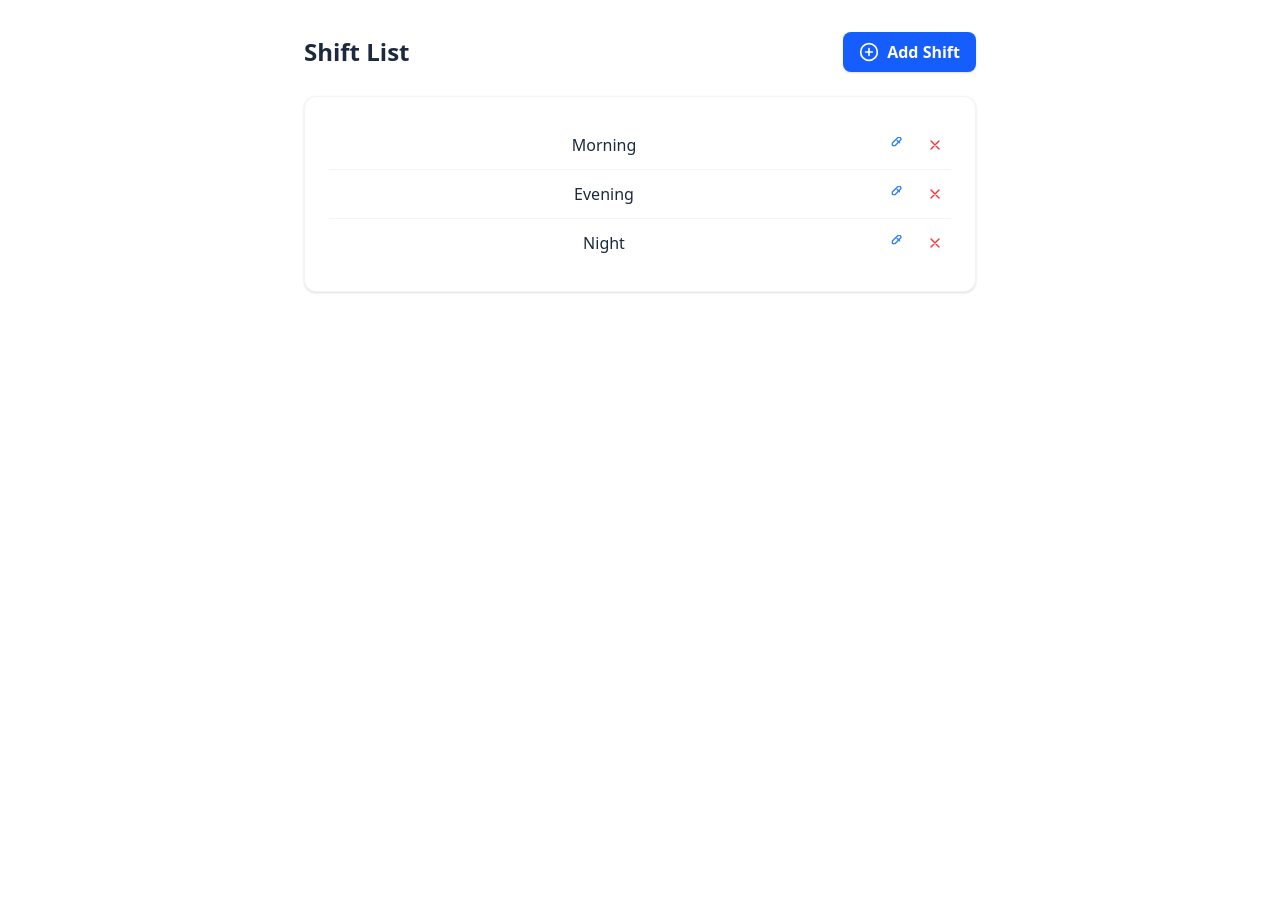
it: ShiftSelector › should open edit modal when edit button is clicked
Click the button titled "Edit shift" in the row of "Morning" at (895, 145), box top-left (879, 133), bottom-right (911, 157)
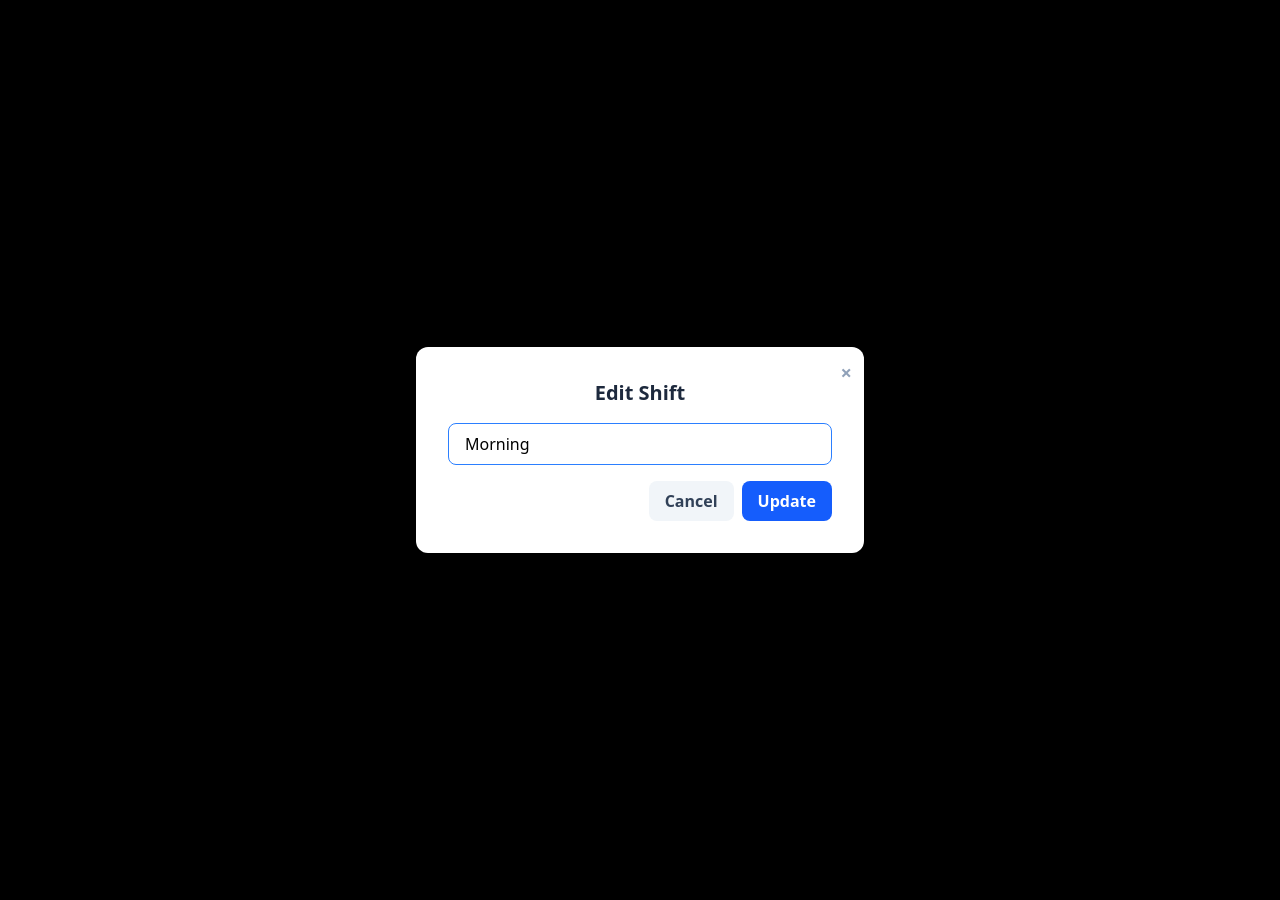
Check: the heading "Edit Shift" is shown, box top-left (595, 379), bottom-right (685, 406)
Check: the field showing "Morning" is shown, box top-left (448, 423), bottom-right (832, 465)
Check: the button "Update" is shown, box top-left (742, 481), bottom-right (832, 521)
